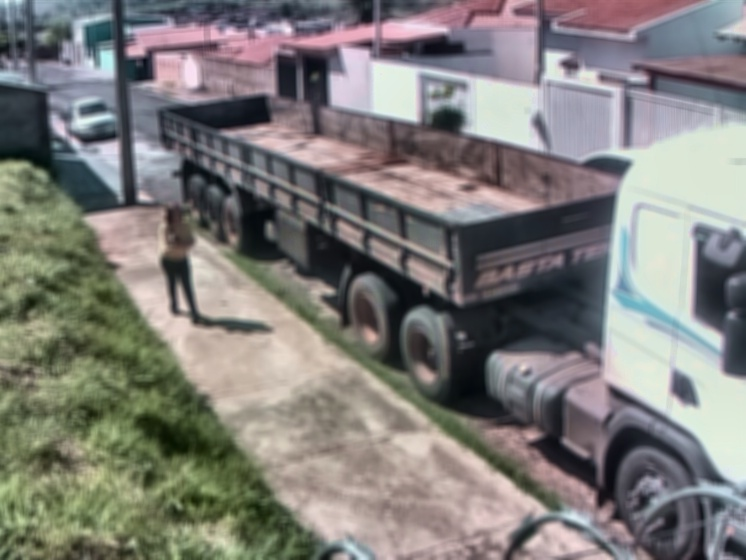person: (158, 200, 213, 327)
